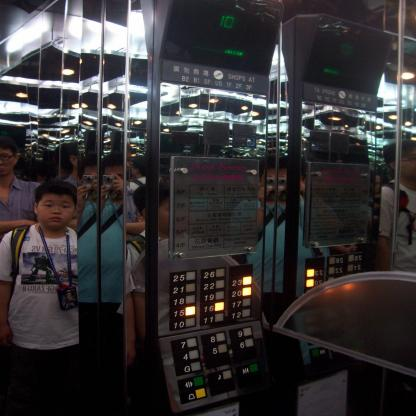10: (168, 316, 198, 331)
11: (199, 312, 226, 326)
12: (227, 307, 253, 320)
15: (168, 305, 198, 318)
16: (198, 300, 226, 314)
17: (226, 297, 253, 309)
18: (168, 294, 198, 307)
19: (199, 290, 226, 302)
20: (226, 286, 253, 298)
21: (168, 281, 198, 296)
22: (199, 278, 226, 292)
23: (227, 275, 254, 287)
25: (168, 269, 198, 284)
26: (199, 266, 227, 280)
4: (171, 348, 202, 362)
5: (202, 342, 229, 356)
6: (230, 338, 256, 352)
7: (170, 336, 200, 350)
8: (200, 331, 227, 344)
9: (228, 324, 254, 340)
G: (172, 360, 203, 374)
alarm: (178, 388, 207, 402)
call: (206, 368, 234, 383)
close: (236, 362, 261, 376)
open: (176, 375, 206, 391)
